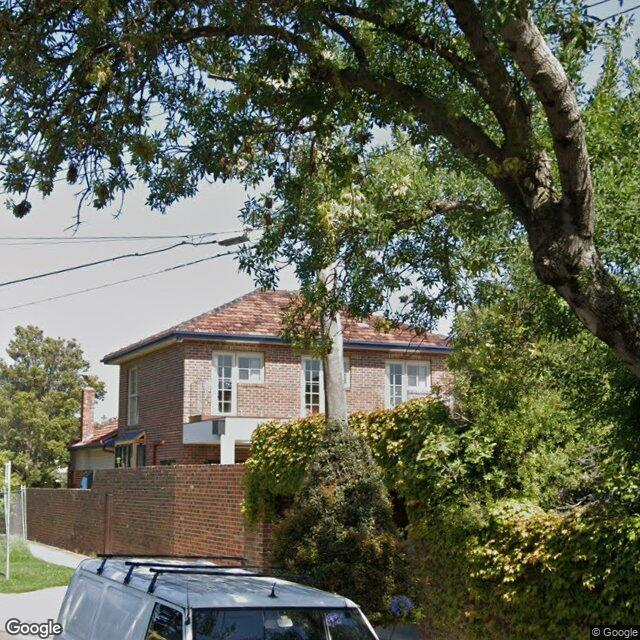timber-pole: (312, 121, 352, 423)
